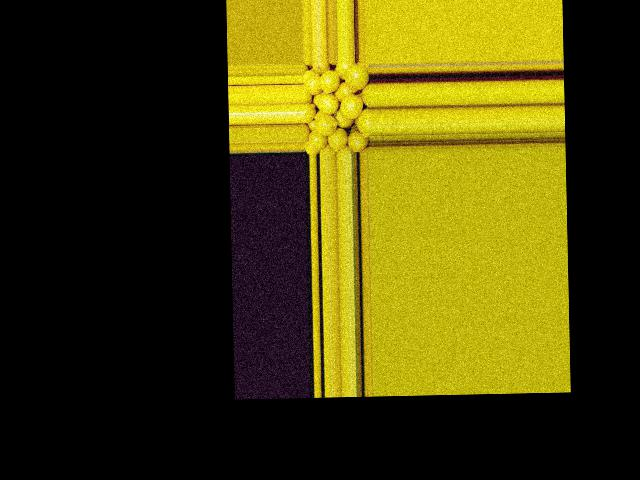lemon: (357, 109, 371, 140)
